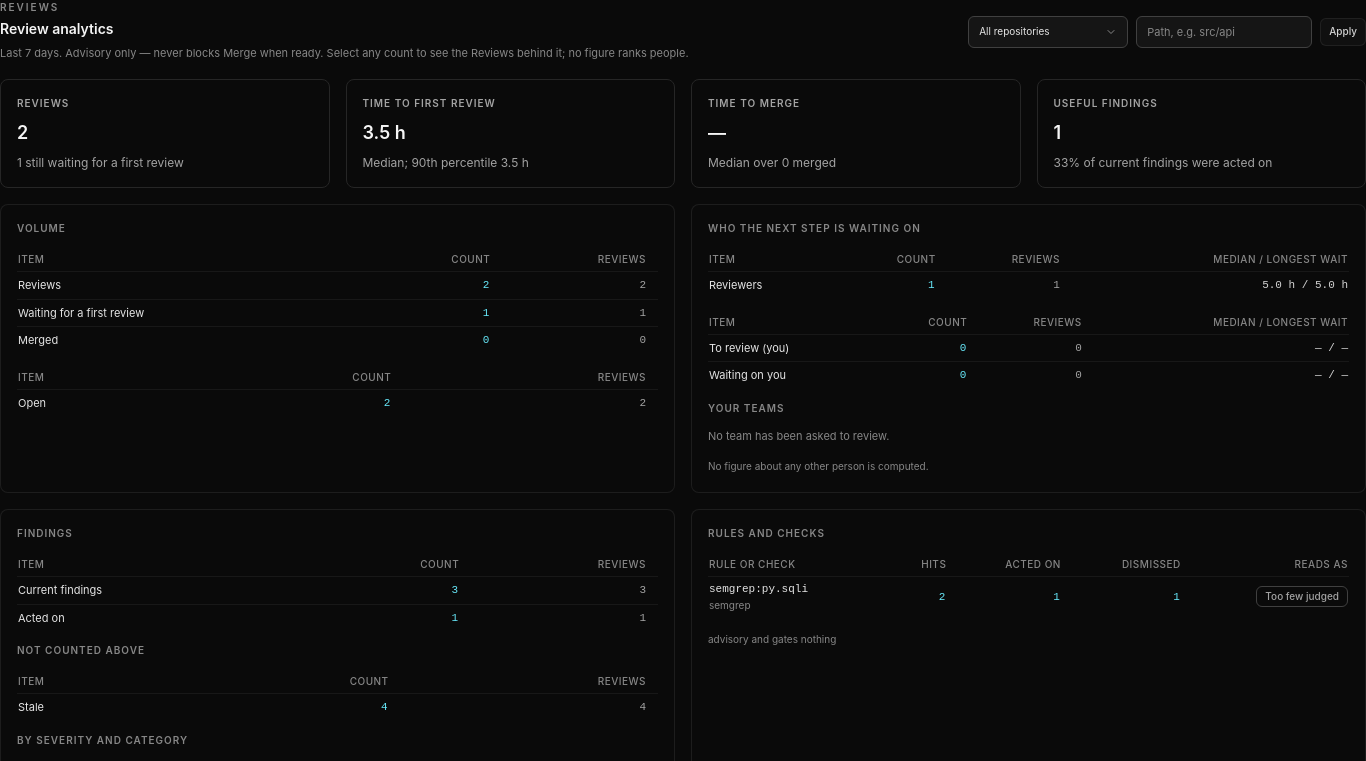
it: Review analytics on the Usage page › renders advisory figures with the compute split and opens the records behind a count
The image size is (1366, 761).
Expected: the heading "Review analytics" is shown, [0, 20, 114, 37]
Expected: the text "never blocks Merge when ready" is shown, [0, 46, 689, 60]
Step 1. Click the button named "Show the Reviews behind Stale" → click(384, 707), box [380, 698, 389, 716]
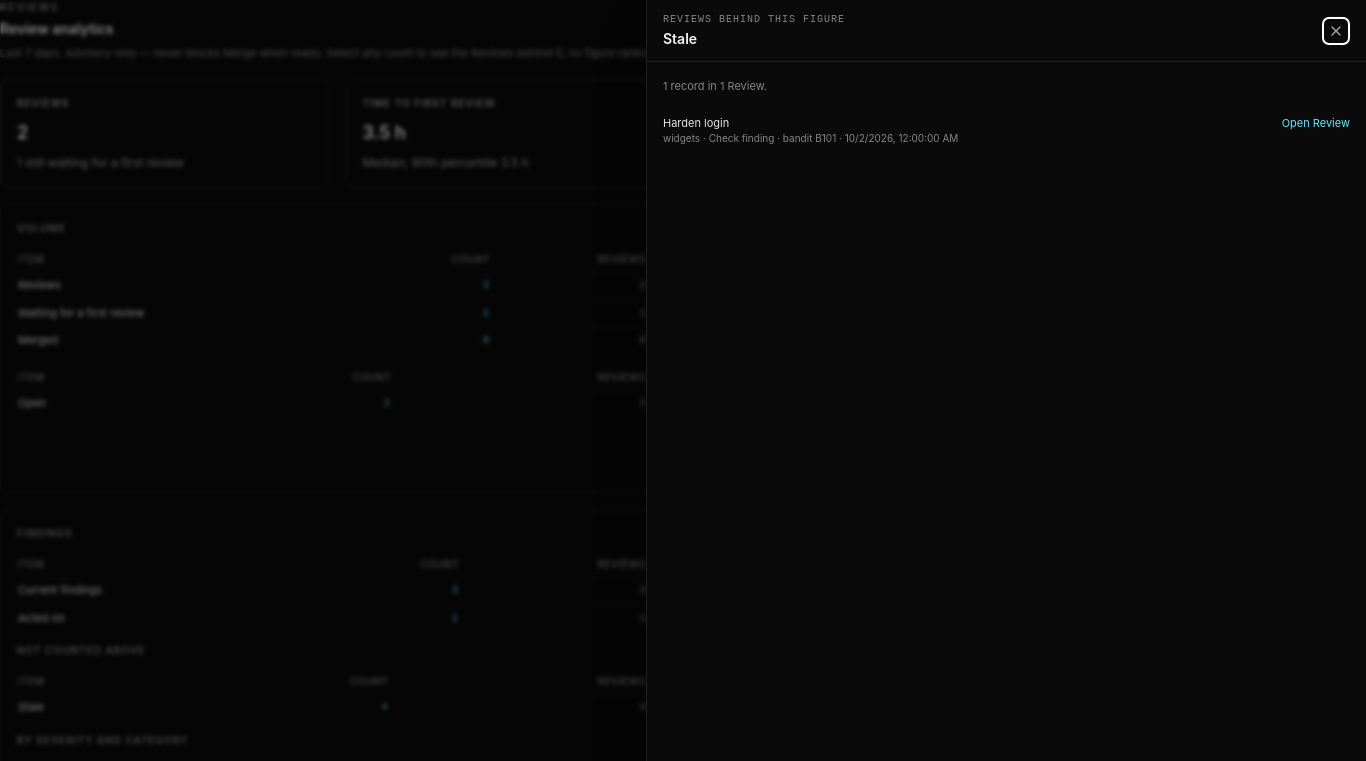
Expected: the text "Harden login" is shown, [663, 116, 729, 130]
